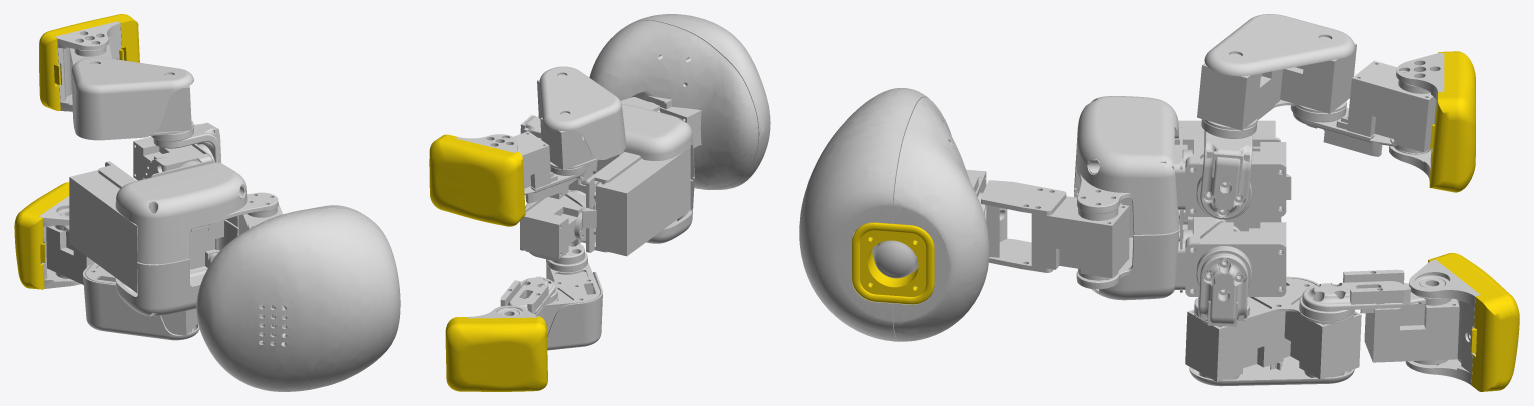
The picture shows the model from 3 angles, left to right: view 1: azimuth 30°, elevation 25°; view 2: azimuth 150°, elevation 25°; view 3: azimuth 270°, elevation 25°; orthographic projection. The views are drawn at different scales.
Visible parts, largest first — view 1: Head_Upper, Mesh_left_shell, Mesh_upper_leg_left, Battery_6V4, Mesh_right_shell, Mesh_upper_leg_right, Mesh_ankle_left, Mesh_foot_left, Mesh_xl344, Mesh_sole_right, Mesh_xl332, Mesh_foot_right (+12 smaller); view 2: Head_Lower, Mesh_sole_right, Battery_6V4, Mesh_sole_left, Mesh_upper_leg_left, Head_Upper, Mesh_left_shell, Mesh_xl341, Mesh_upper_leg_right, Mesh_power_support, Mesh_xl333, Reinforced_leg_2 (+13 smaller); view 3: Head_Upper, Head_Lower, Mesh_left_shell, Mesh_upper_leg_left, Mesh_xl336, Mesh_xl335, Mesh_xl344, Mesh_xl343, Head_Camera_Bezel, Mesh_right_shell, Integrated_Neck_Bracket, Mesh_xl342 (+22 smaller).
Boxes of the visible parts, x1,y1,x2,y2 form: Head_Upper: [196, 208, 400, 391]; Mesh_left_shell: [115, 162, 278, 264]; Mesh_upper_leg_left: [71, 57, 193, 140]; Battery_6V4: [69, 170, 138, 293]; Mesh_right_shell: [115, 219, 238, 316]; Mesh_upper_leg_right: [83, 264, 199, 340]; Mesh_ankle_left: [55, 21, 121, 111]; Mesh_foot_left: [43, 16, 139, 110]; Mesh_xl344: [46, 225, 94, 284]; Mesh_sole_right: [14, 182, 69, 288]; Mesh_xl332: [133, 136, 203, 180]; Mesh_foot_right: [29, 191, 69, 289]; Head_Lower: [589, 20, 758, 188]; Mesh_sole_right: [445, 319, 547, 391]; Battery_6V4: [596, 146, 690, 256]; Mesh_sole_left: [429, 137, 523, 226]; Mesh_upper_leg_left: [539, 66, 626, 159]; Head_Upper: [631, 14, 770, 189]; Mesh_left_shell: [622, 104, 694, 179]; Mesh_xl341: [521, 195, 585, 258]; Mesh_upper_leg_right: [547, 272, 602, 350]; Mesh_power_support: [582, 152, 641, 252]; Mesh_xl333: [540, 112, 595, 170]; Reinforced_leg_2: [500, 276, 555, 316]; Head_Upper: [799, 88, 927, 341]; Head_Lower: [893, 97, 989, 341]; Mesh_left_shell: [1074, 96, 1179, 234]; Mesh_upper_leg_left: [1204, 14, 1355, 76]; Mesh_xl336: [1031, 196, 1129, 280]; Mesh_xl335: [1347, 60, 1436, 153]; Mesh_xl344: [1364, 294, 1459, 364]; Mesh_xl343: [1185, 297, 1285, 381]; Head_Camera_Bezel: [852, 222, 934, 304]; Mesh_right_shell: [1074, 184, 1179, 300]; Integrated_Neck_Bracket: [981, 180, 1066, 272]; Mesh_xl342: [1283, 300, 1361, 379].
Bounding box in the file's own units: 0.1031 × 0.1454 × 0.2854.
